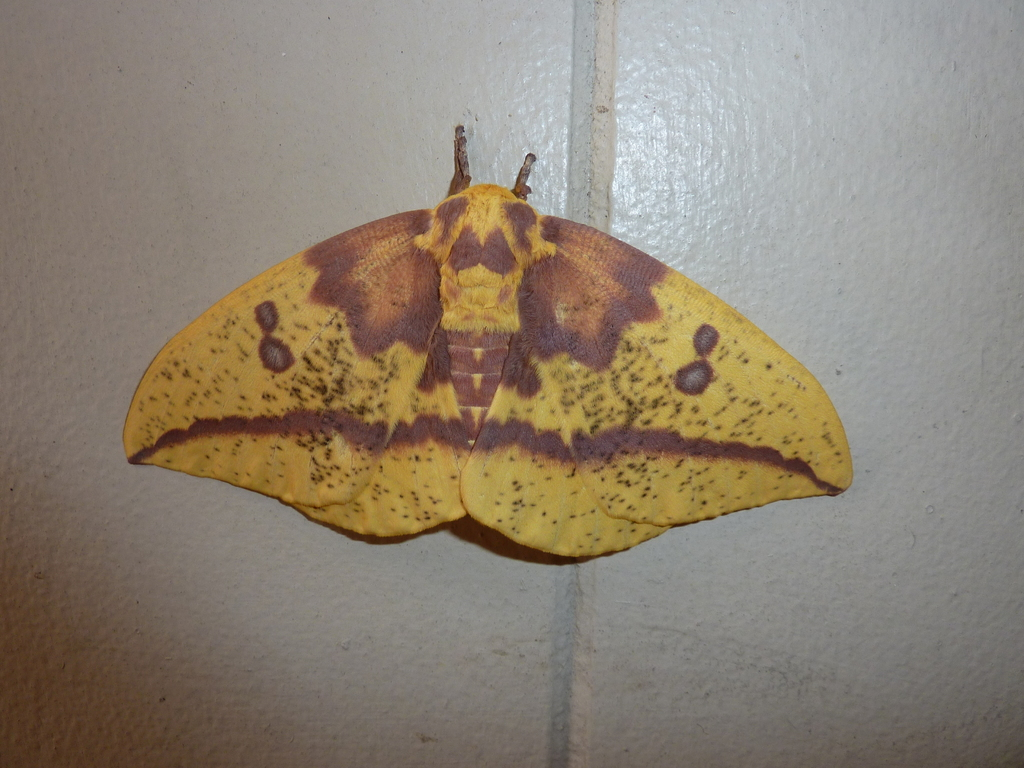Butterfly: (102, 136, 865, 584)
